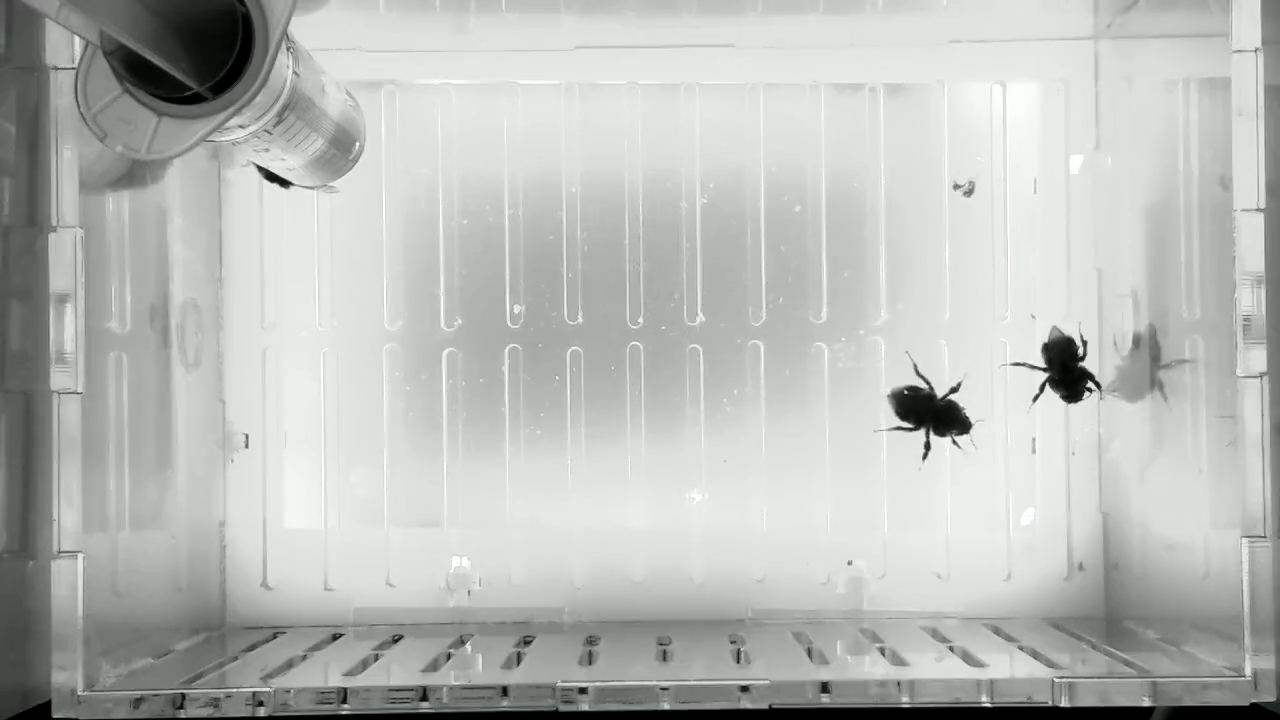bee_alive: (867, 345, 987, 474), (995, 316, 1107, 416), (235, 152, 355, 207)
feeder: (224, 37, 371, 184)
